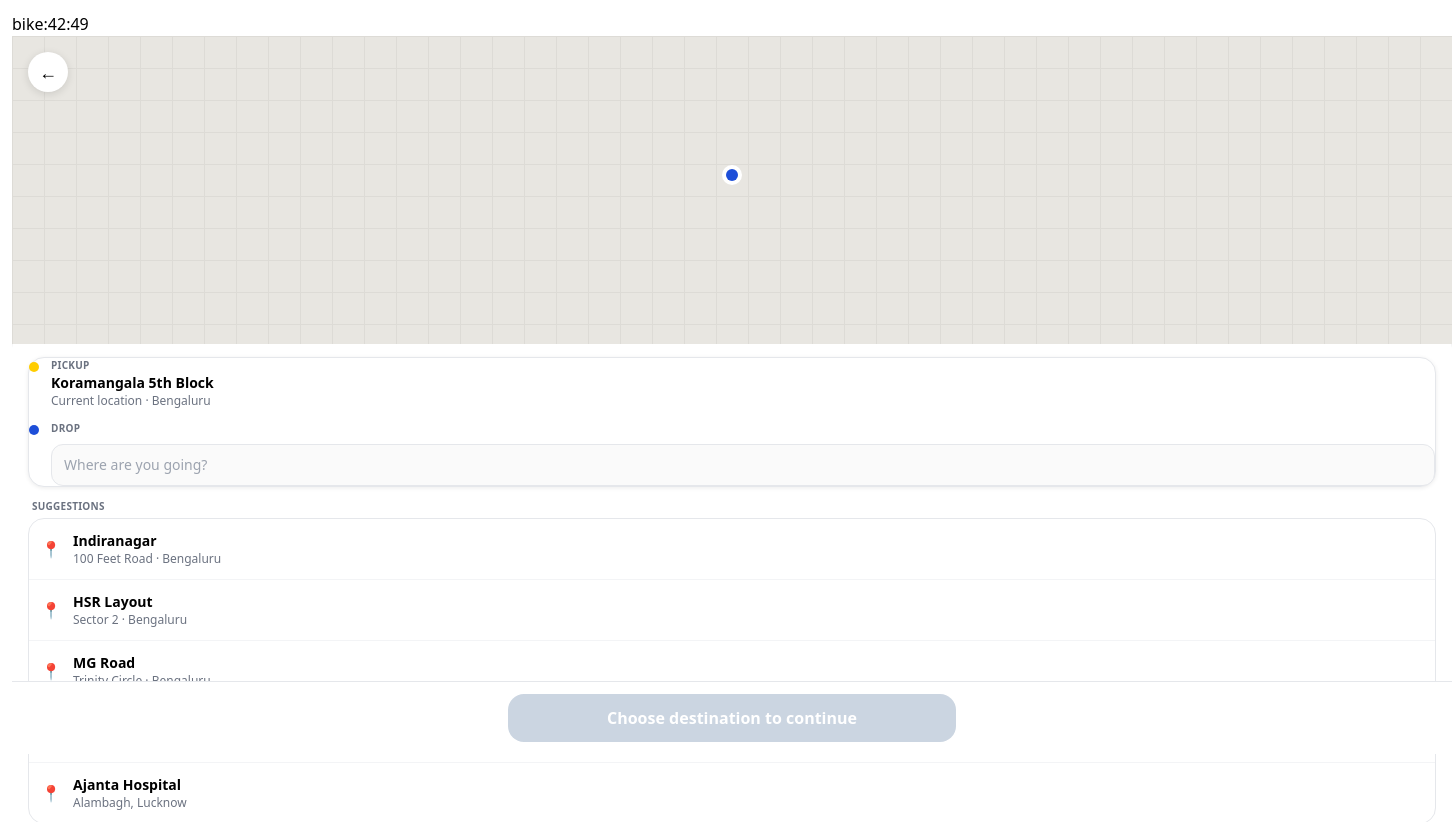
Test: ride category demo flows › renders all three category rows on booking
This screenshot has width=1452, height=822.
Click the button with test id "destination-suggestion-indiranagar". click: (115, 540)
box: [29,519,1435,579]
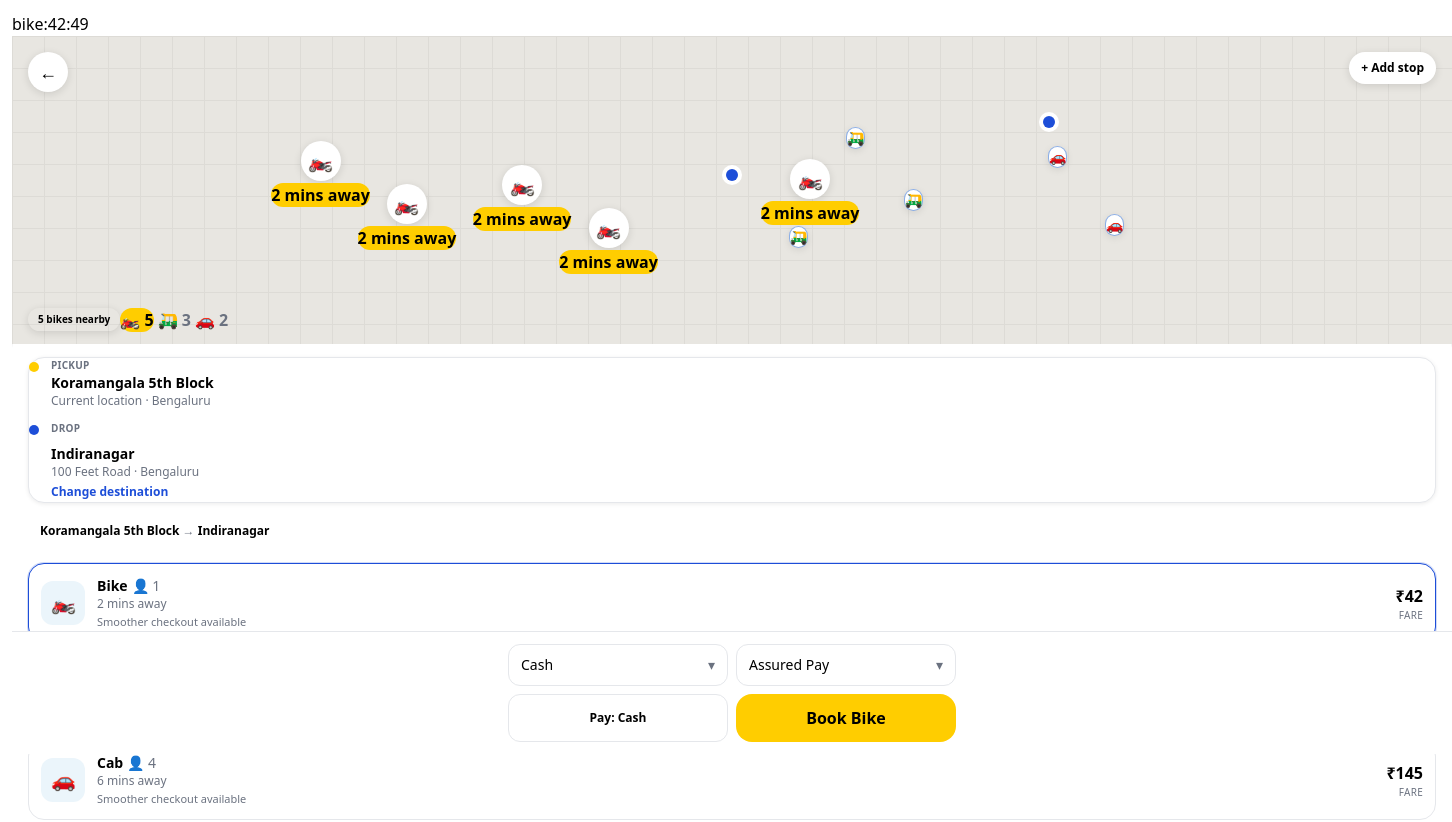
Now the element with test id "ride-category-list" is shown, box [28,563,1436,820]
Now the button with test id "ride-option-auto" is shown, box [28,651,1436,732]
Now the button with test id "ride-option-cab" is shown, box [28,740,1436,820]
